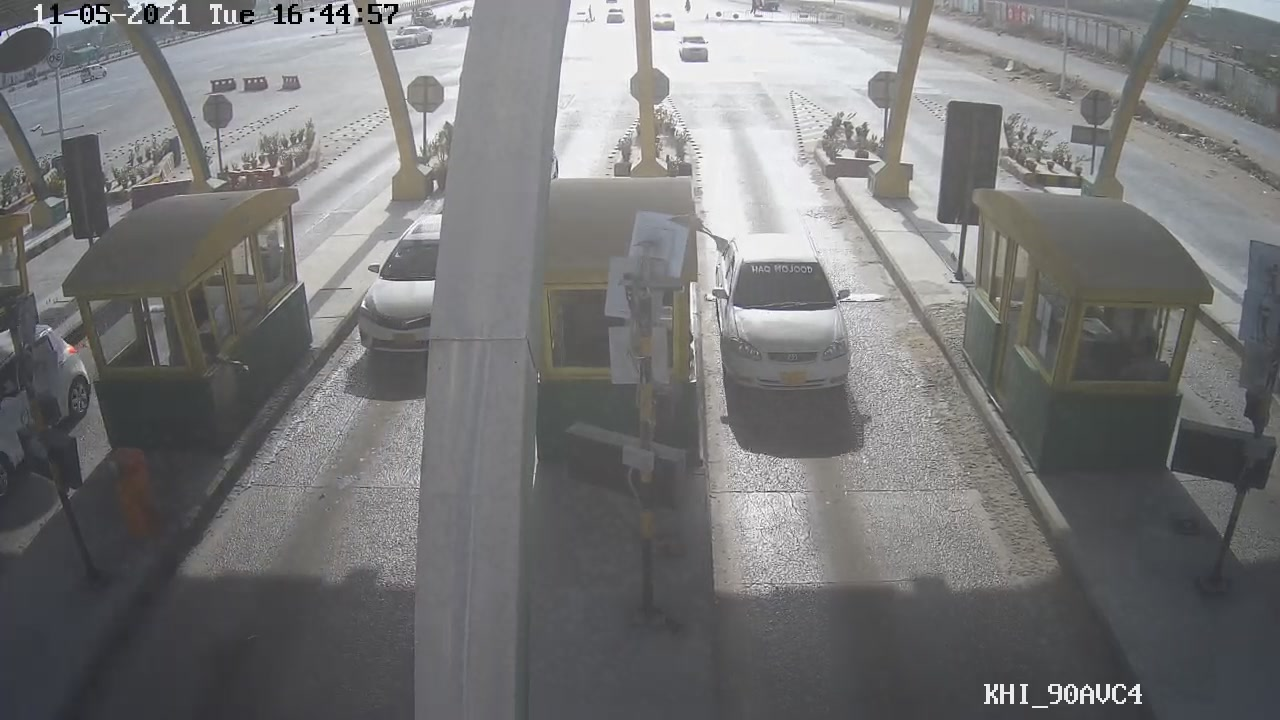F1: (702, 217, 861, 405)
